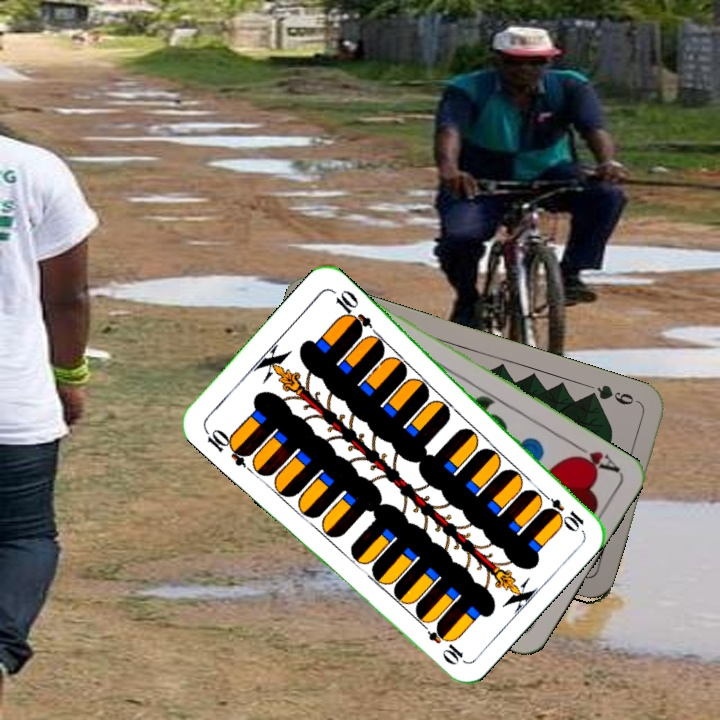E10: (200, 424, 253, 469), (535, 487, 587, 532)
G9: (583, 380, 643, 408)
HA: (567, 438, 622, 475)
